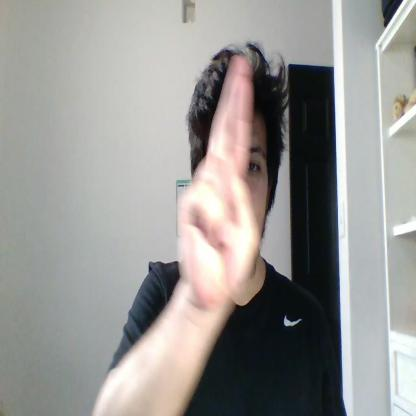R: (178, 53, 260, 307)
